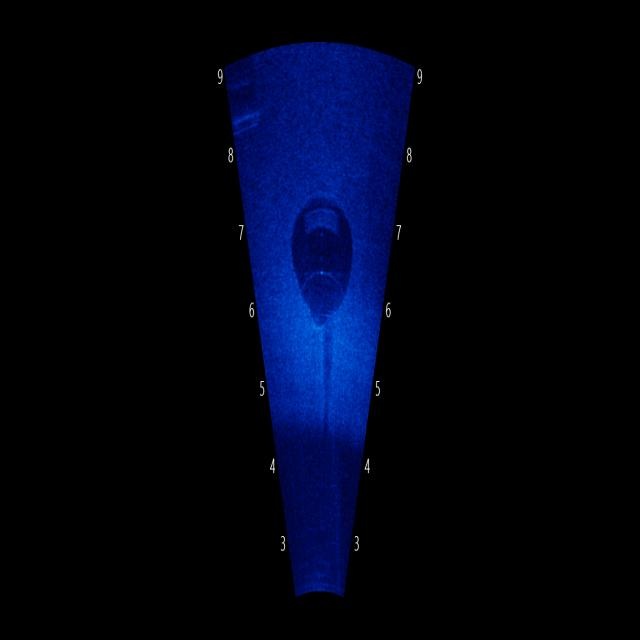circle: (277, 188, 365, 346)
